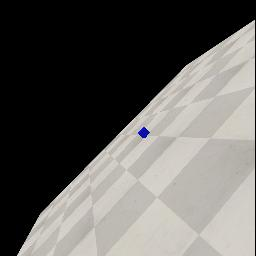box: (138, 127, 150, 138)
